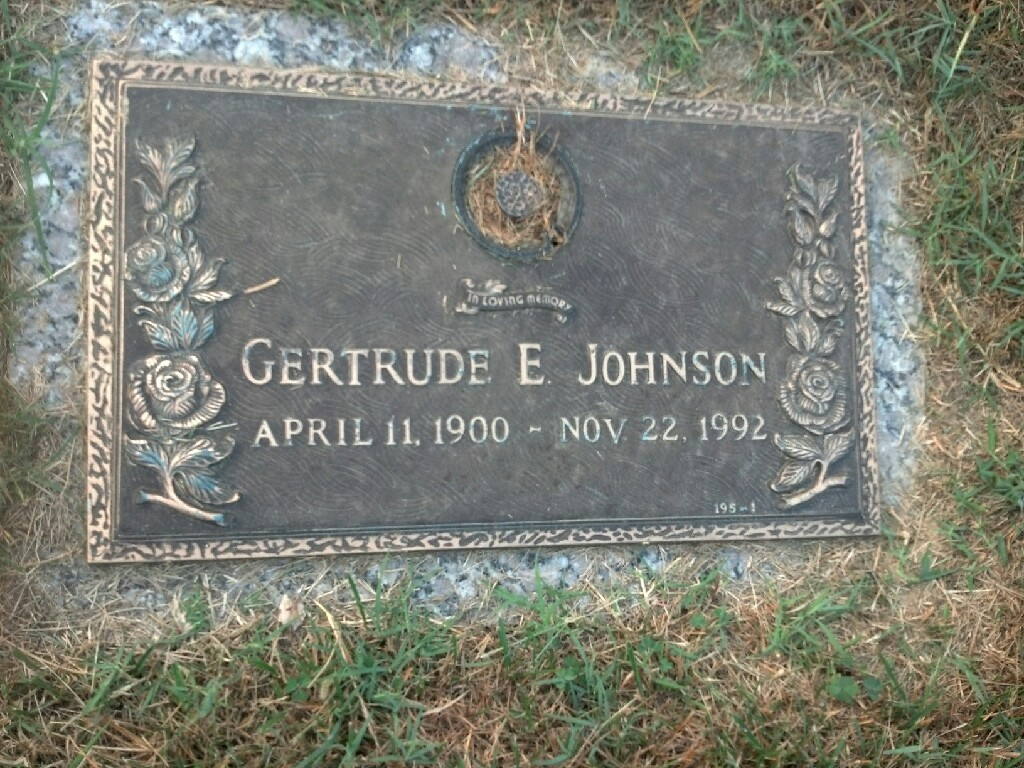flat: (83, 8, 901, 579)
